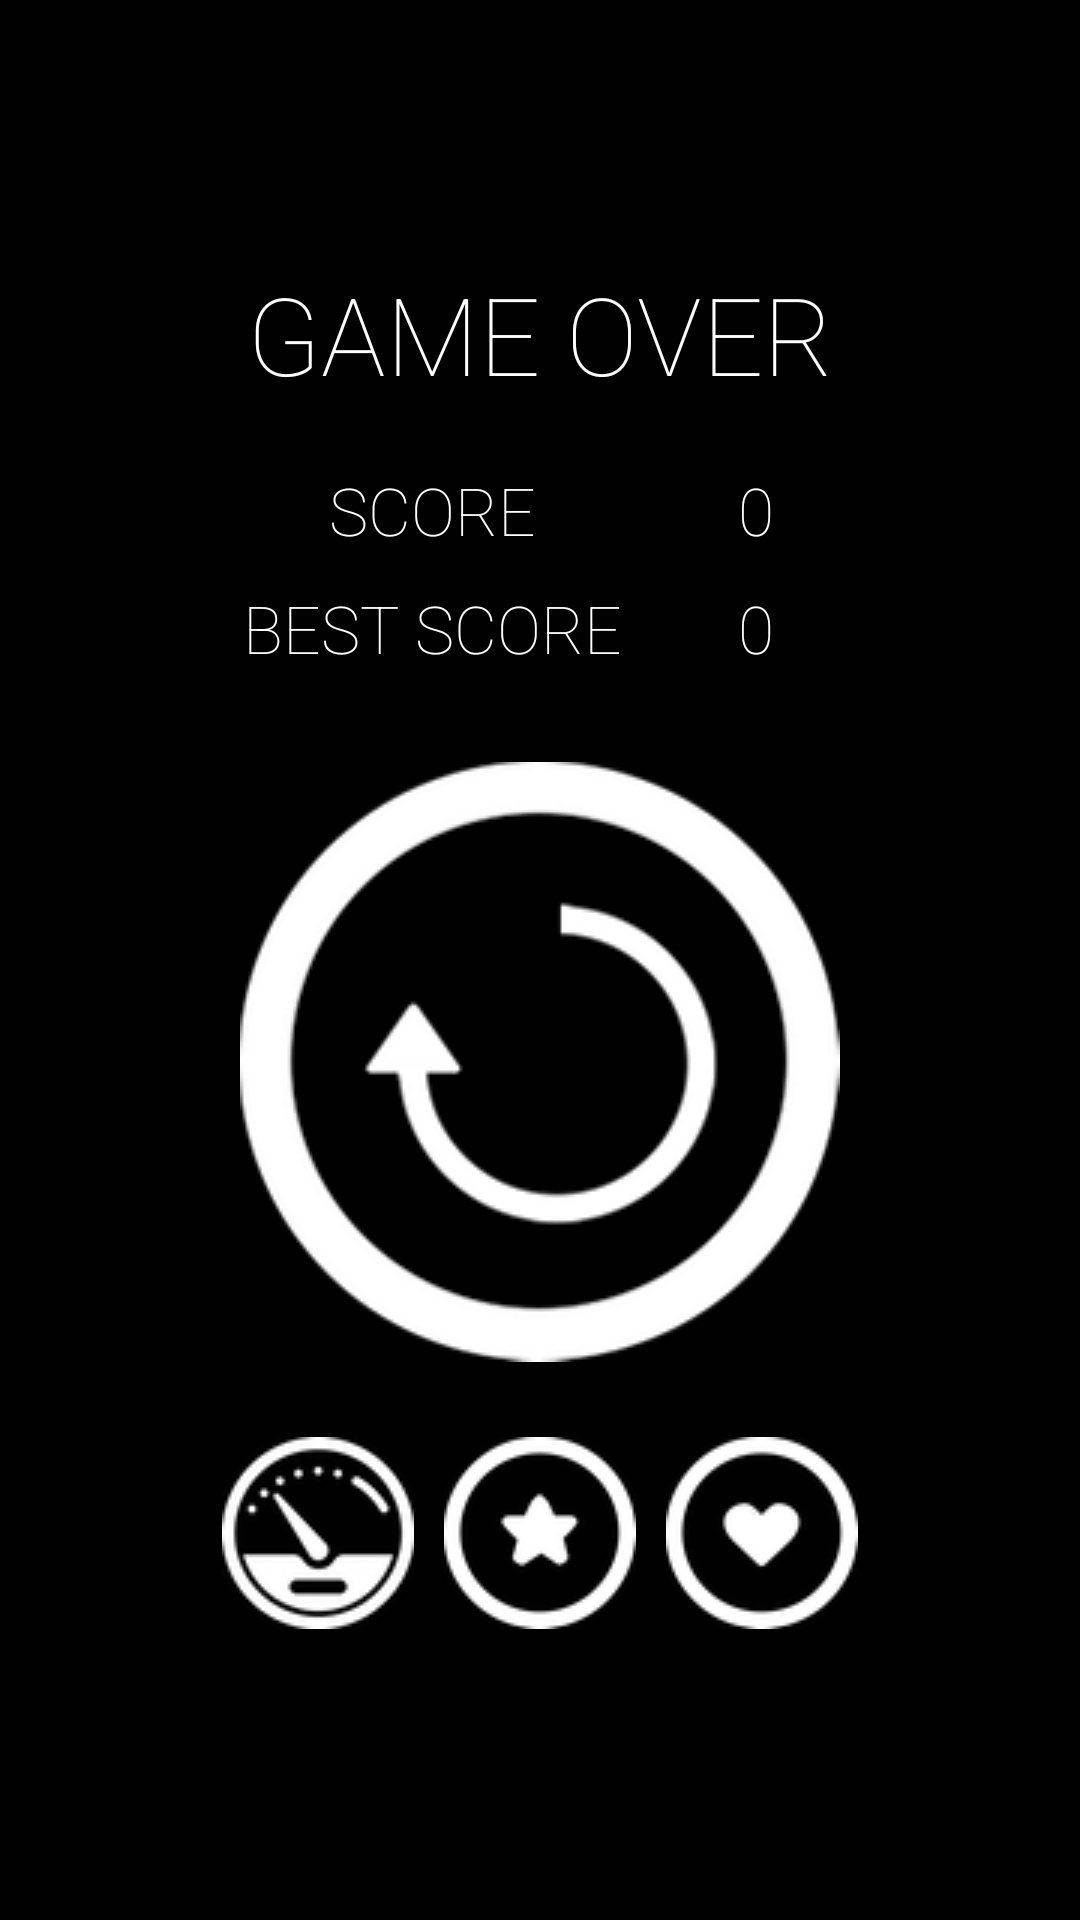

Point at icon controls on the screen. Image size 1080px×1920px, points as (x,y).
love: (762,1533)
star: (540,1533)
